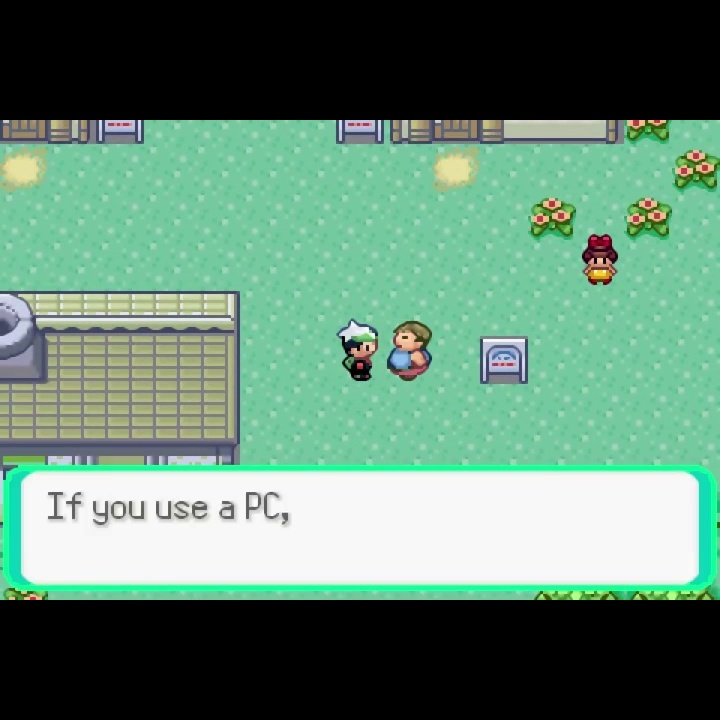house: (1, 289, 243, 467)
npc: (384, 316, 437, 384), (334, 318, 381, 386), (578, 230, 620, 289)
